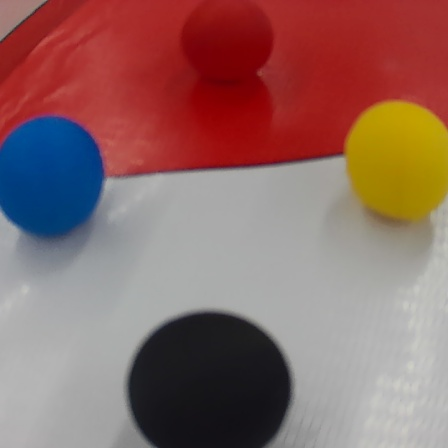black: (128, 310, 292, 447)
blue: (0, 115, 109, 240)
red: (183, 1, 278, 82)
red_base: (1, 1, 448, 173)
yellow: (343, 99, 448, 223)
